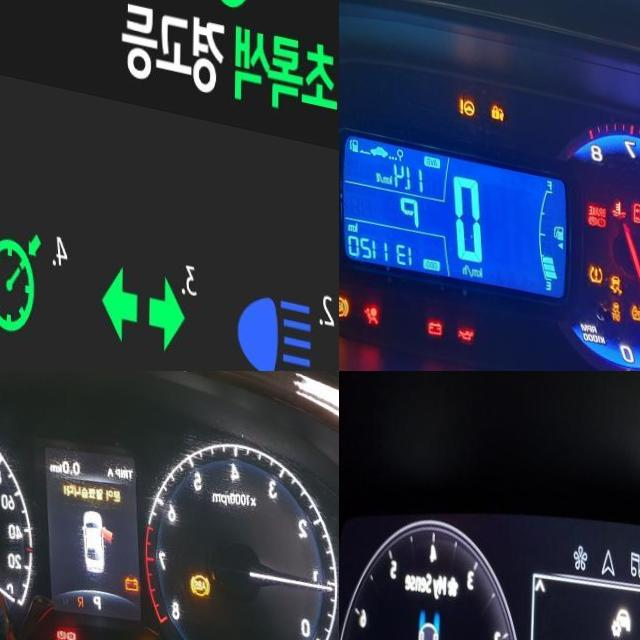Doors: (634, 182, 640, 205)
Engine cooling system: (613, 180, 628, 201)
